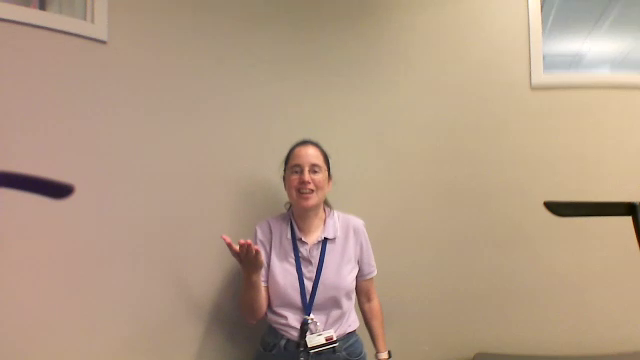land: (207, 224, 276, 278)
